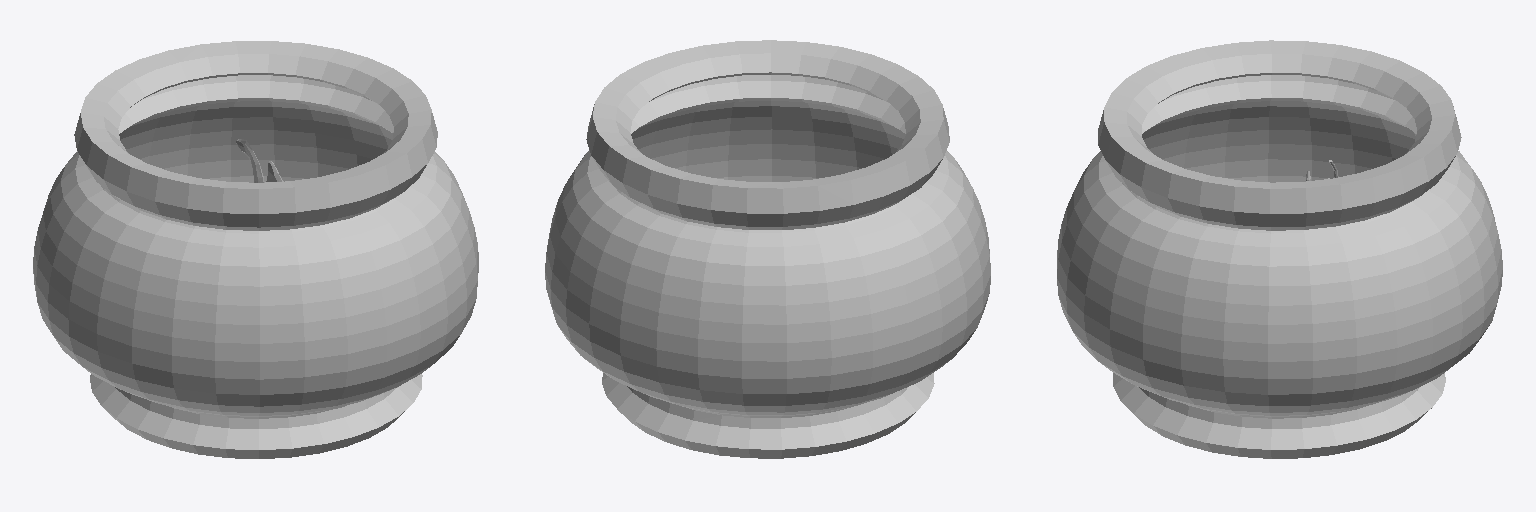
The model's file is Fishbowl-Correctpositions.obj.
3 views of the same model, side by side, from view 1: azimuth 30°, elevation 25°; view 2: azimuth 150°, elevation 25°; view 3: azimuth 270°, elevation 25° (orthographic).
Visible parts, largest first — view 1: FishBowl, FishRetopo4_finish; view 2: FishBowl; view 3: FishBowl.
Boxes of the visible parts, box(x1,y1,x2,y2) form: FishBowl: box(33, 41, 478, 458); FishRetopo4_finish: box(236, 139, 283, 182); FishBowl: box(545, 40, 990, 458); FishBowl: box(1057, 40, 1502, 458).
Size of the model in its own units: 31.46 by 21.95 by 31.42.